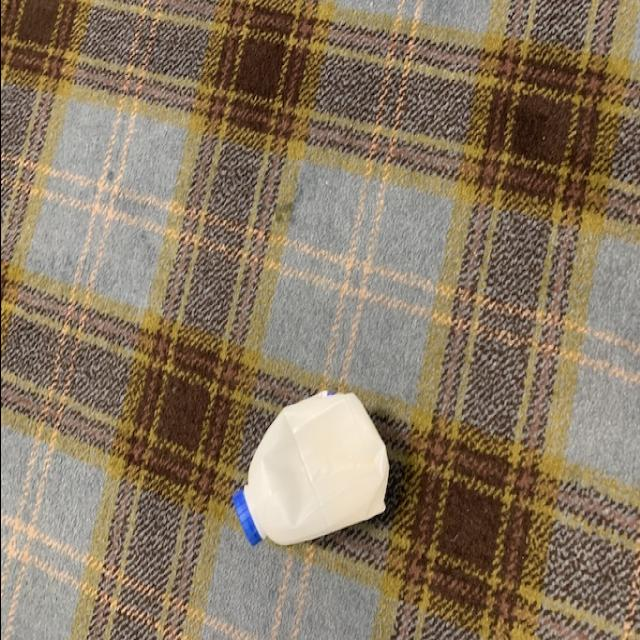litter: (226, 388, 394, 558)
